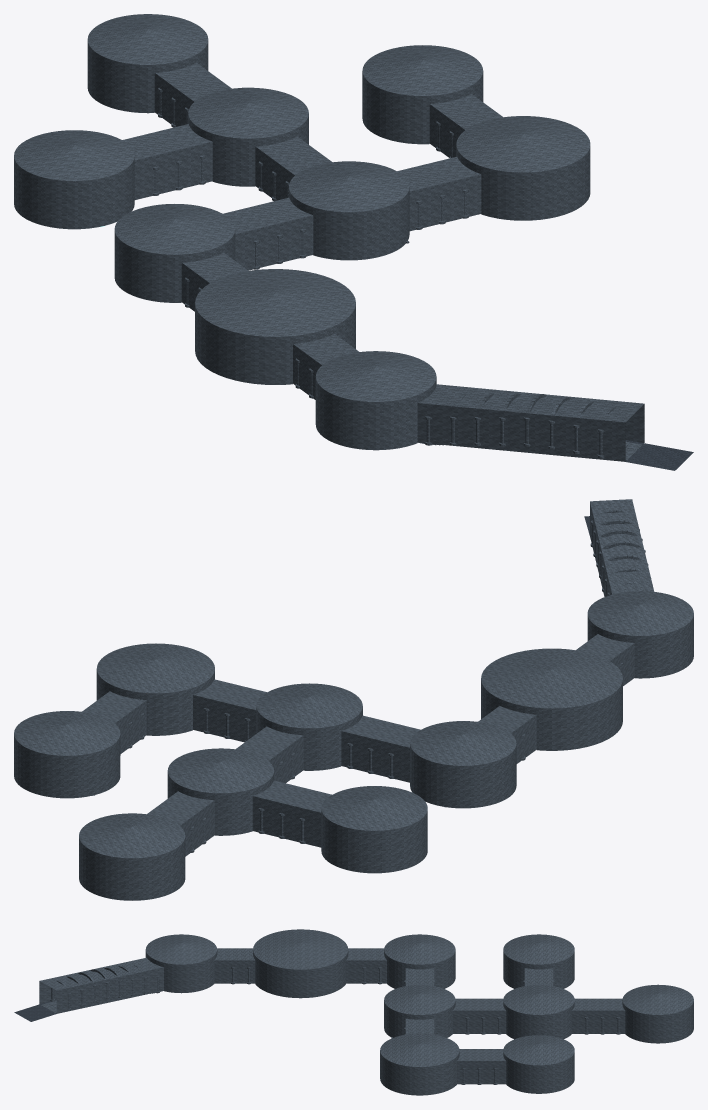
File: connected_cavern.glb
The picture shows the model from 3 angles, top to bottom: view 1: azimuth 30°, elevation 25°; view 2: azimuth 150°, elevation 25°; view 3: azimuth 270°, elevation 25°; orthographic projection. The views are drawn at different scales.
Visible parts, largest first — view 1: Stillwater Hollow floor; view 2: Stillwater Hollow floor; view 3: Stillwater Hollow floor.
Part boxes in pixels (box(x1,y1,x2,y2)): Stillwater Hollow floor: box(14, 14, 693, 470); Stillwater Hollow floor: box(14, 499, 693, 900); Stillwater Hollow floor: box(14, 929, 693, 1095).
Bounding box in the file's own units: 82 × 9.98 × 171.
Materials: 11 (7 with a texture image).
